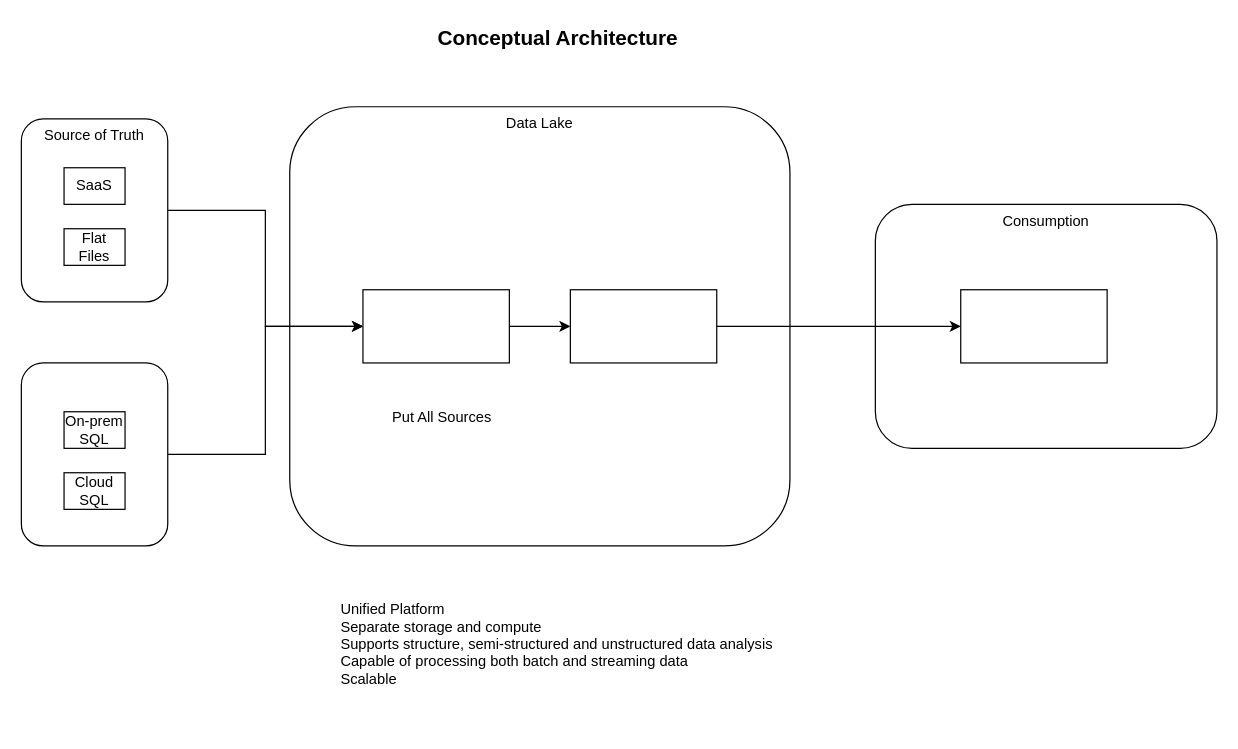
Some shapes in this 1238 by 749 pixel diagram are drawn without their labels. Here are the shapes that lost their labels. From the top down, the box of each, then its label:
(362, 289, 509, 363): Raw Layer
(569, 289, 717, 363): Analytics Layer
(960, 289, 1107, 363): BI Tools
(20, 362, 168, 546): History Data
